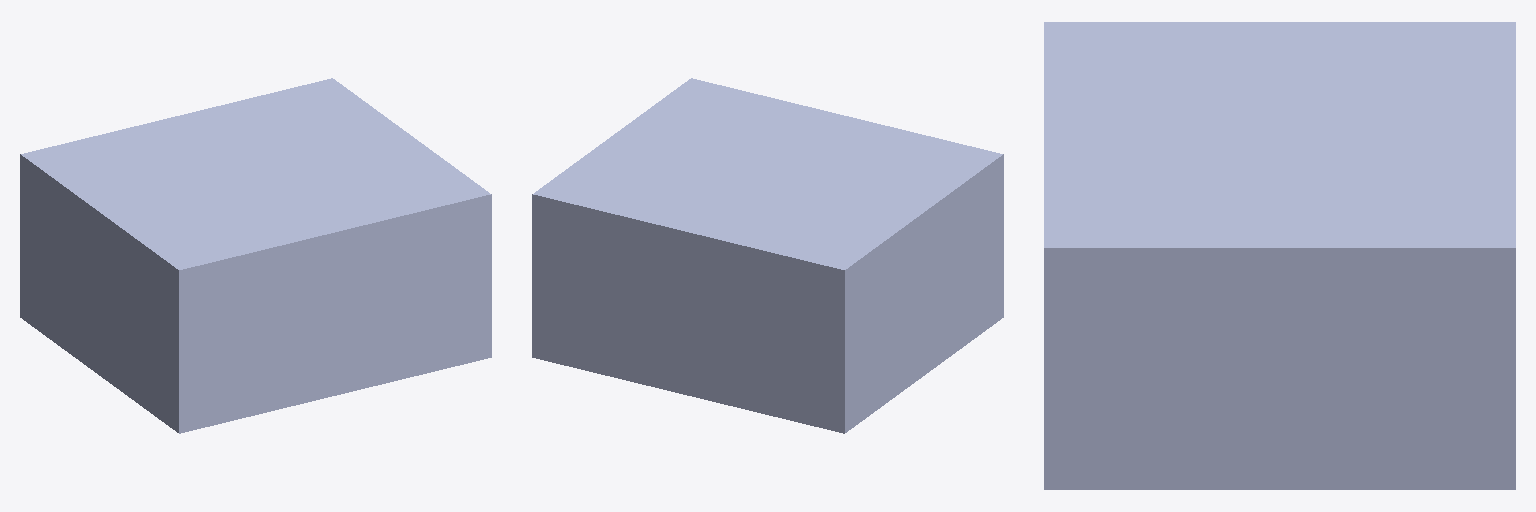
URDF robot description (BasePlate):
<?xml version="1.0" encoding="utf-8"?>
<!-- This URDF was automatically created by SolidWorks to URDF Exporter! Originally created by Stephen Brawner (brawner@gmail.com) 
     Commit Version: 1.6.0-4-g7f85cfe  Build Version: 1.6.7995.38578
     For more information, please see http://wiki.ros.org/sw_urdf_exporter -->
<robot
  name="BasePlate">
  <link
    name="Base">
    <inertial>
      <origin
        xyz="-0.0311484593356243 0.0114998281787011 1.00000000000001"
        rpy="0 0 0" />
      <mass
        value="0.859375" />
      <inertia
        ixx="0.00198551432291667"
        ixy="0"
        ixz="0"
        iyy="0.00114628092447917"
        iyz="-1.91994134710975E-20"
        izz="0.00139872233072917" />
    </inertial>
    <visual>
      <origin
        xyz="0 0 0"
        rpy="0 0 0" />
      <geometry>
        <mesh
          filename="package://BasePlate/meshes/Base.STL" />
      </geometry>
      <material
        name="">
        <color
          rgba="0.792156862745098 0.819607843137255 0.933333333333333 1" />
      </material>
    </visual>
    <collision>
      <origin
        xyz="0 0 0"
        rpy="0 0 0" />
      <geometry>
        <mesh
          filename="package://BasePlate/meshes/Base.STL" />
      </geometry>
    </collision>
  </link>
</robot>

--- Render facts (derived) ---
Views: 3 orthographic renders of the robot side by side, from view 1: azimuth 30°, elevation 25°; view 2: azimuth 150°, elevation 25°; view 3: azimuth 270°, elevation 25°.
Robot: BasePlate — 1 links, 0 joints (none); root link Base; default pose: all joints at 0.
Visible links, largest first — view 1: Base; view 2: Base; view 3: Base.
Link boxes in pixels (x1,y1,x2,y2): Base: (20, 78, 491, 433); Base: (532, 78, 1003, 433); Base: (1044, 22, 1515, 489).
Size in the robot's own frame: 0.125 by 0.11 by 0.0625 metres.
Meshes: 1 distinct files referenced, 1 mesh visuals loaded (1 binary STL).
